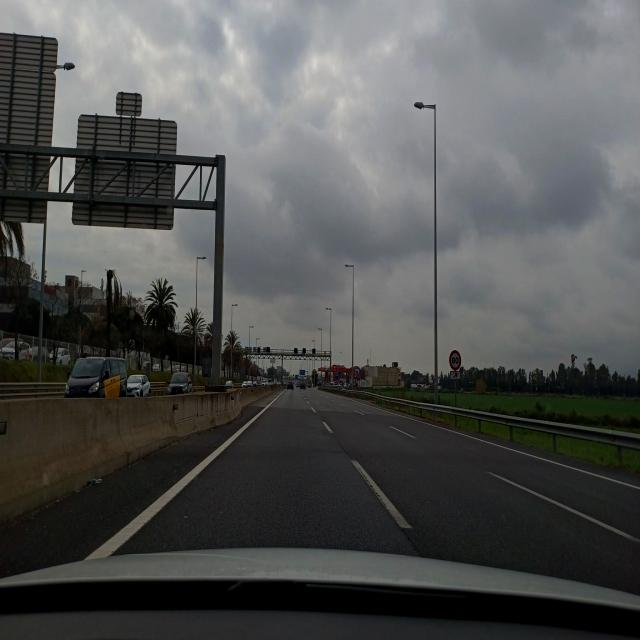car: (64, 355, 128, 399), (166, 372, 193, 394), (126, 374, 151, 397), (225, 378, 235, 389)
